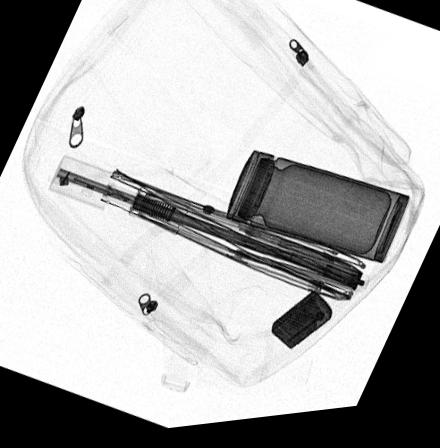Lighter: (270, 297, 332, 356)
